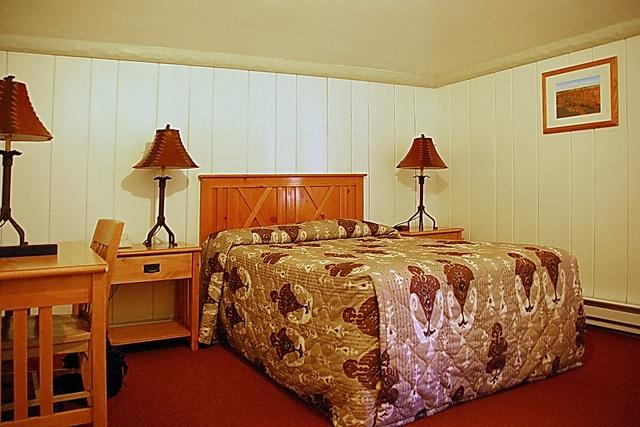Meja: (0, 239, 108, 426), (107, 238, 201, 355)
